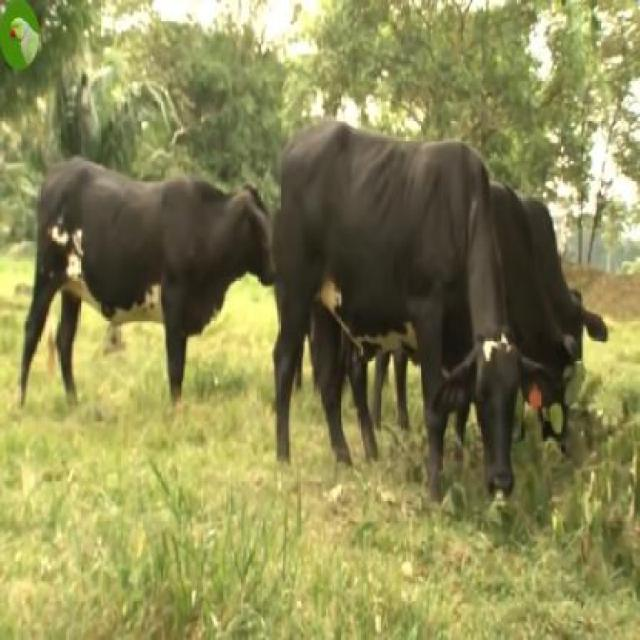Cow: (272, 123, 520, 502), (17, 157, 272, 429)
